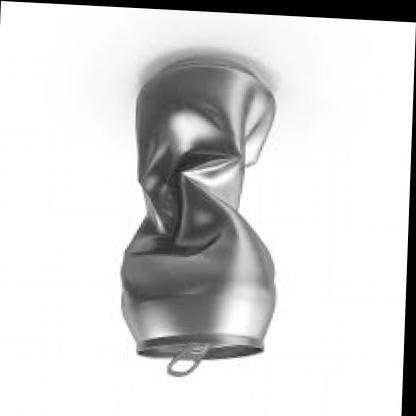trash: (121, 57, 275, 375)
